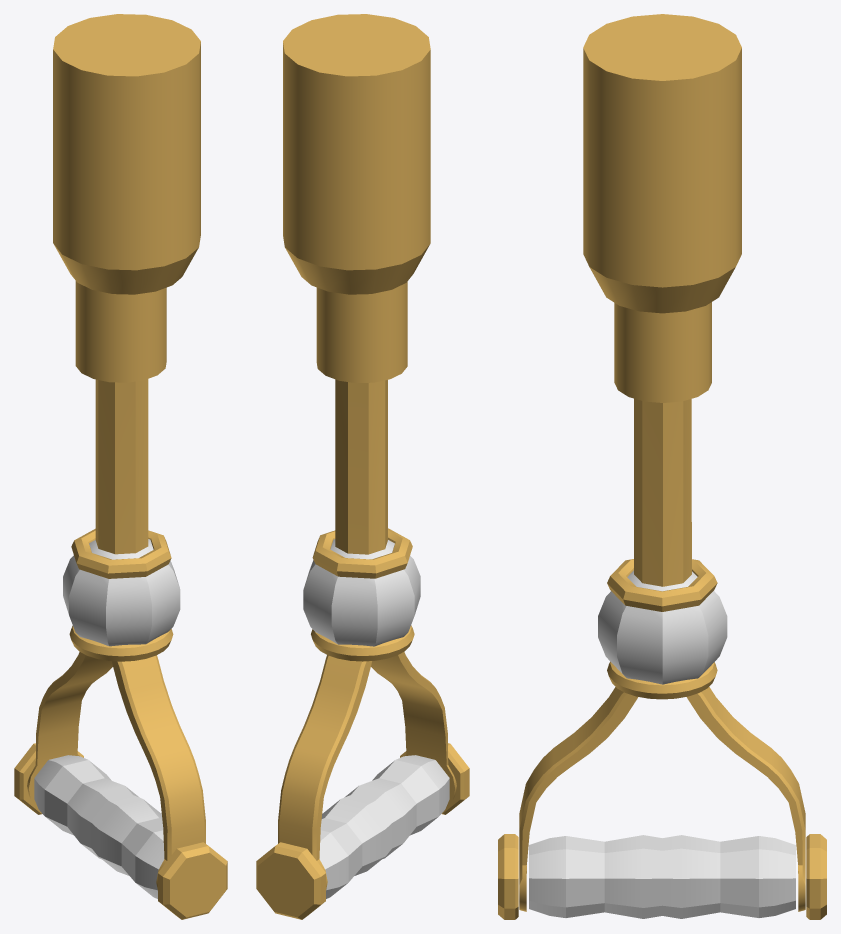
Rendered from Whistle_Handle_v03.fbx.
3 renders of one model, left to right at view 1: azimuth 30°, elevation 25°; view 2: azimuth 150°, elevation 25°; view 3: azimuth 270°, elevation 25°, orthographic. The views are drawn at different scales.
Visible parts, largest first — view 1: WHISTLE.003, WHISTLE.002; view 2: WHISTLE.003, WHISTLE.002; view 3: WHISTLE.003, WHISTLE.002.
Boxes of the visible parts, box(x1,y1,x2,y2) form: WHISTLE.003: box(14, 379, 227, 919); WHISTLE.002: box(53, 14, 200, 382); WHISTLE.003: box(256, 379, 469, 919); WHISTLE.002: box(283, 14, 430, 383); WHISTLE.003: box(498, 398, 826, 919); WHISTLE.002: box(583, 14, 741, 402).
Size of the model in its own units: 3.24 by 19.56 by 6.71.
